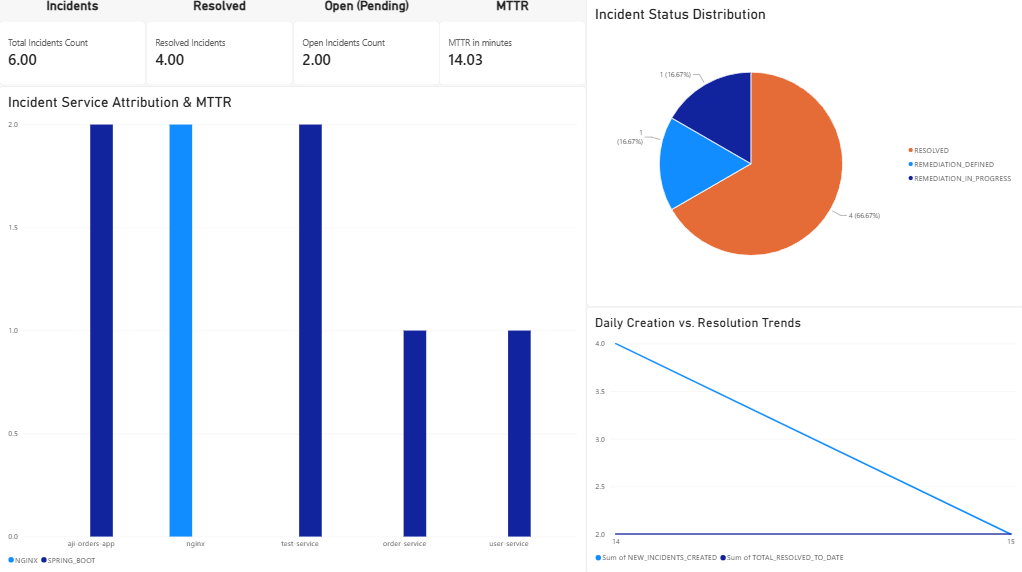

This screenshot's page, from the dashboard's own definition file:
{"tool":"powerbi","page":{"name":"Incident Analytics","canvas":[1920,1080],"ordinal":1},"visuals":[{"type":"cardVisual","title":"Incidents","fields":{"Data":["VW_INCIDENT_SUMMARY_MTTR.Total Incidents Count"]},"box":[0,0,274.5,163.8],"z":0},{"type":"cardVisual","title":"Resolved","fields":{"Data":["Sum(VW_INCIDENT_SUMMARY_MTTR.RESOLVED_INCIDENTS_COUNT)"]},"box":[274.5,0,274.5,163.8],"z":1000},{"type":"cardVisual","title":"Open (Pending)","fields":{"Data":["VW_INCIDENT_SUMMARY_MTTR.Open Incidents Count"]},"box":[548.9,0,274.5,163.8],"z":2000},{"type":"cardVisual","title":"MTTR","fields":{"Data":["VW_INCIDENT_SUMMARY_MTTR.Overall MTTR (Mins)"]},"box":[823.4,0,274.5,163.8],"z":3000},{"type":"pieChart","title":"Incident Status Distribution","fields":{"Category":["VW_INCIDENT_STATUS_DISTRIBUTION.STATUS"],"Y":["Sum(VW_INCIDENT_STATUS_DISTRIBUTION.INCIDENT_COUNT)"]},"box":[1097.9,0,821.3,576.6],"z":4000},{"type":"lineChart","title":"Daily Creation vs. Resolution Trends","fields":{"Category":["VW_INCIDENT_TRENDS_DAILY.INCIDENT_DATE_UTC.Variation.Date Hierarchy.Day"],"Y":["Sum(VW_INCIDENT_TRENDS_DAILY.NEW_INCIDENTS_CREATED)","Sum(VW_INCIDENT_TRENDS_DAILY.TOTAL_RESOLVED_TO_DATE)"]},"box":[1097.9,576.6,821.3,500],"z":5000},{"type":"clusteredColumnChart","title":"Incident Service Attribution & MTTR","fields":{"Category":["VW_INCIDENT_SERVICE_SOURCE_ATTRIBUTION.SERVICE_NAME"],"Series":["VW_INCIDENT_SERVICE_SOURCE_ATTRIBUTION.LOG_SOURCE"],"Y":["Sum(VW_INCIDENT_SERVICE_SOURCE_ATTRIBUTION.ATTRIBUTED_INCIDENT_COUNT)"]},"box":[0,163.8,1097.9,917],"z":6000}]}

Visuals, with their boxes in screenshot pixels (x1, y1, x2, y2), scaled from the page's 1920x1080 canvas onto the 1022x572 screenshot:
"Incidents" cardVisual: [0,0,146,87]
"Resolved" cardVisual: [146,0,292,87]
"Open (Pending)" cardVisual: [292,0,438,87]
"MTTR" cardVisual: [438,0,584,87]
"Incident Status Distribution" pieChart: [584,0,1021,305]
"Daily Creation vs. Resolution Trends" lineChart: [584,305,1021,570]
"Incident Service Attribution & MTTR" clusteredColumnChart: [0,87,584,571]
